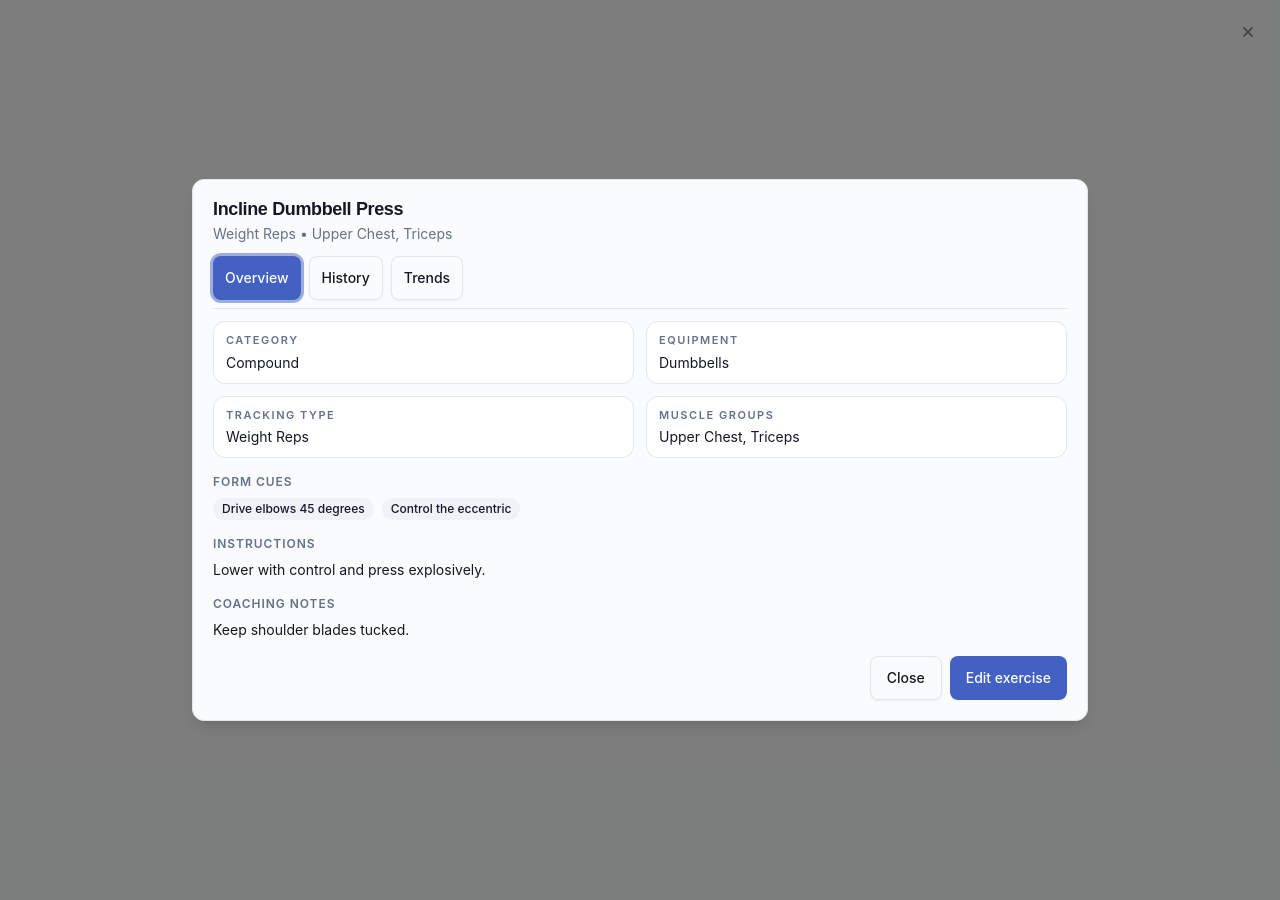
Test: ExerciseDetailModal › renders history tab with session history and trend chart
Step 1. Click the tab "History" → [346, 278], box [308,256,383,300]
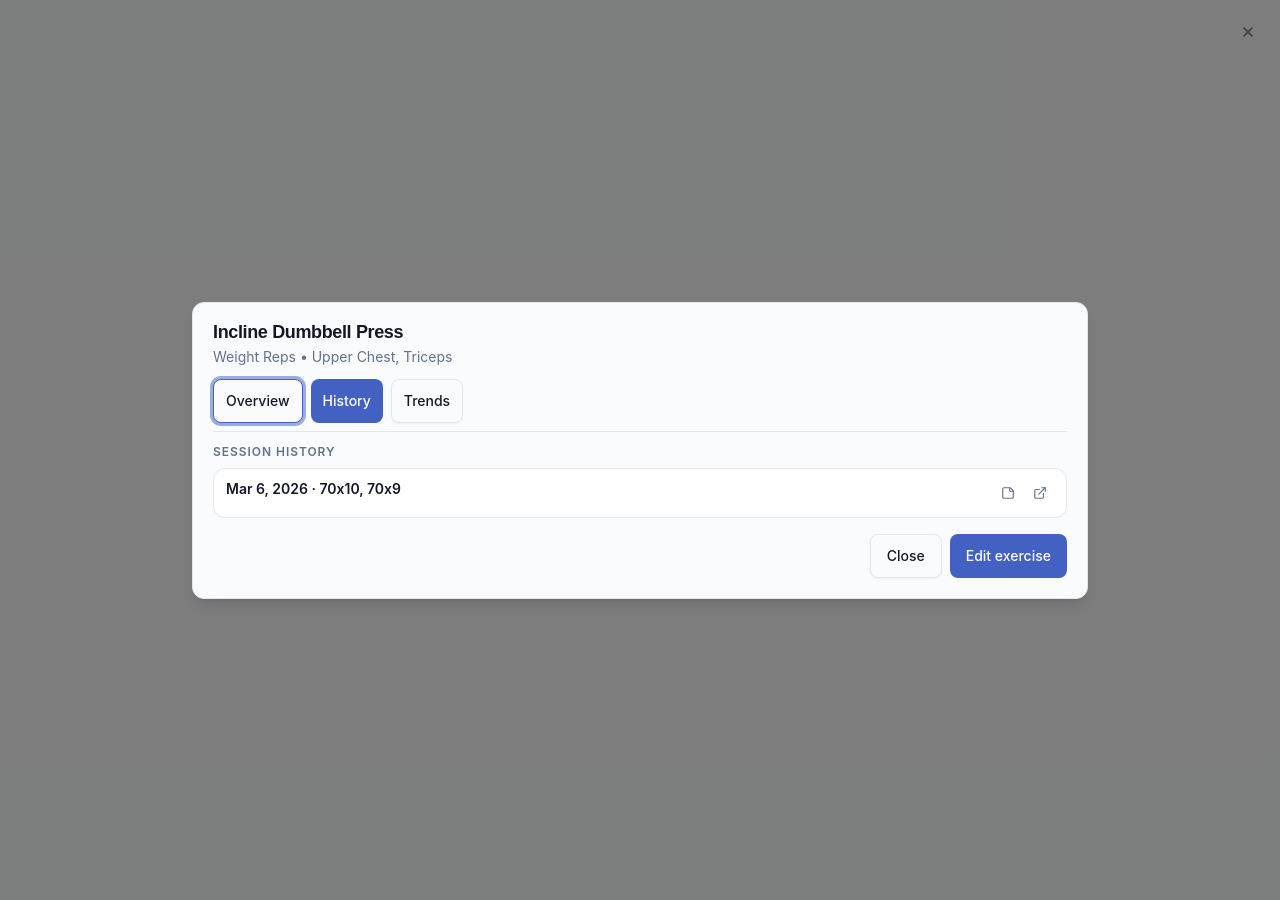
Now the text "Mar 6, 2026 · 70x10, 70x9" is shown, box [226,478,401,498]
Now the button named "View notes" is shown, box [994,478,1022,506]
